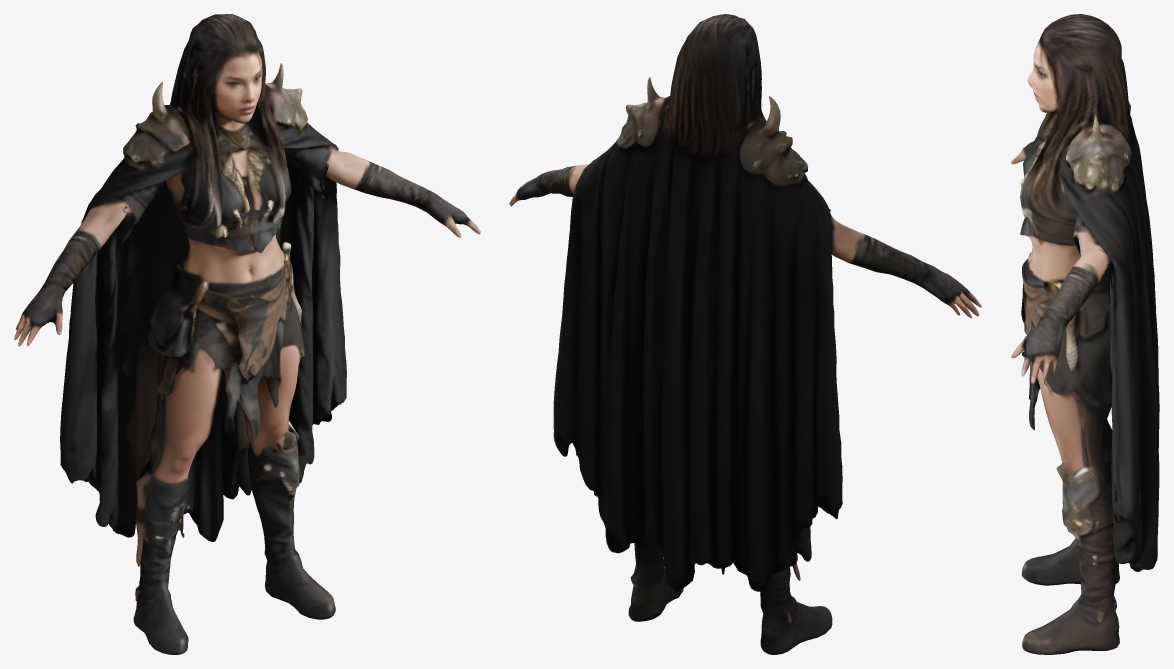
Rendered from base_basic_shaded.fbx.
The picture shows the model from 3 angles, left to right: view 1: azimuth 30°, elevation 25°; view 2: azimuth 150°, elevation 25°; view 3: azimuth 270°, elevation 25°; orthographic projection.
Parts seen in each view (by area): view 1: model; view 2: model; view 3: model.
Part boxes in pixels (<box>): model: <box>14,14,480,654</box>; model: <box>509,14,981,654</box>; model: <box>1010,14,1159,654</box>.
Bounding box in the file's own units: 153 × 189 × 42.96.
